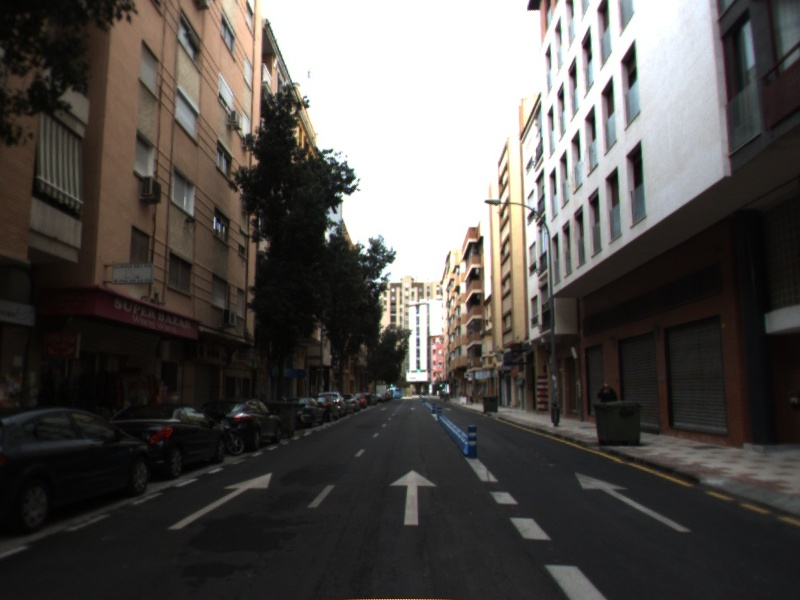STRAIGHT: (573, 470, 692, 534), (166, 471, 274, 531), (388, 468, 438, 527)
